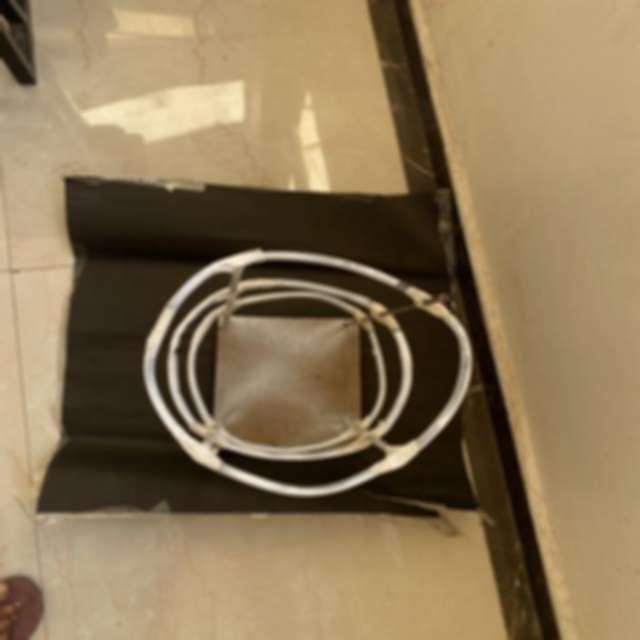silo: (153, 246, 454, 491)
